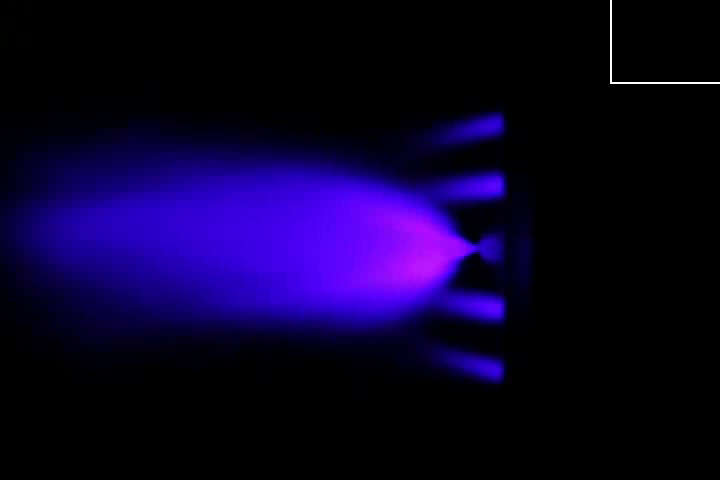burner cap: (472, 233, 504, 269)
pilot flame: (414, 111, 505, 149), (421, 173, 510, 206), (432, 289, 504, 326), (442, 345, 502, 387)
stable: (334, 197, 477, 295)
